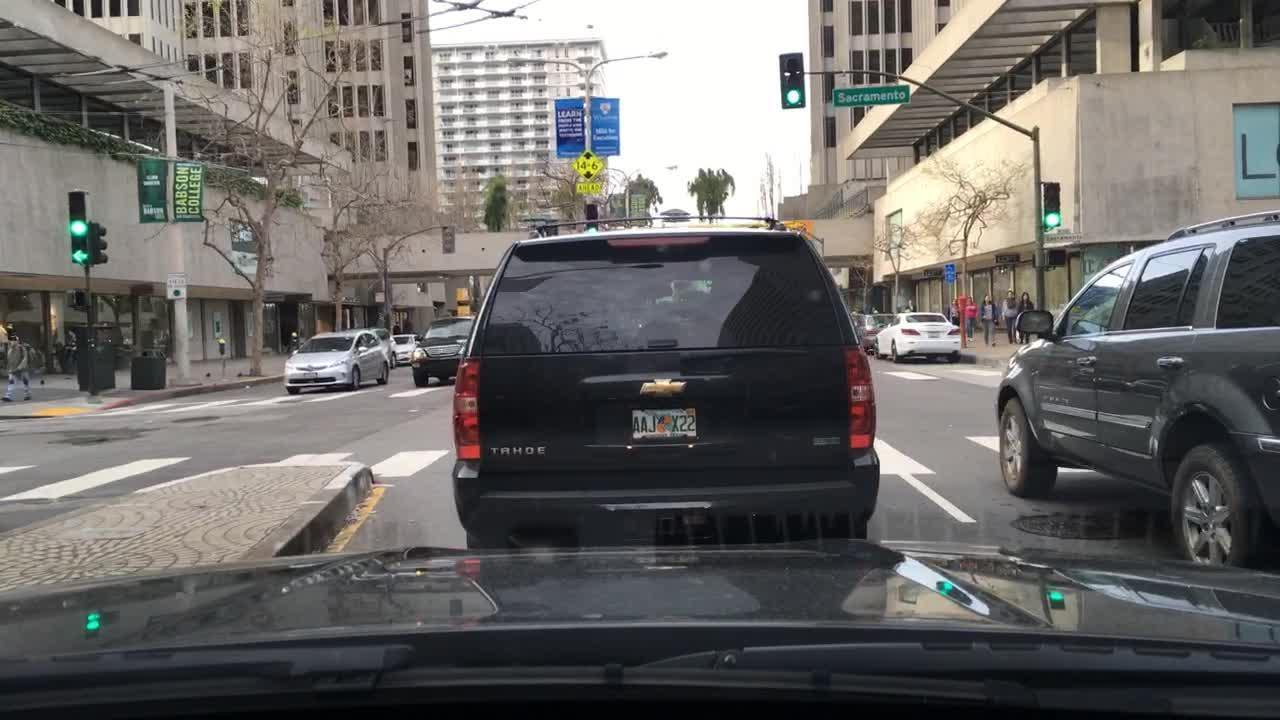chevrolet: (631, 363, 703, 405)
